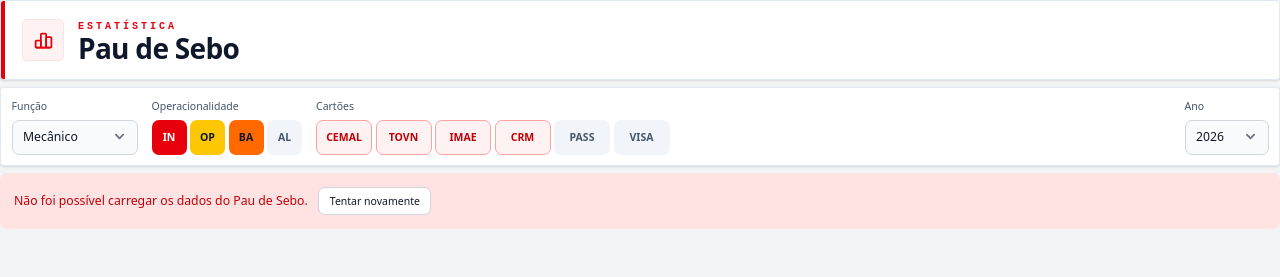
it: Sebo — comportamento da página › mostra erro com nova tentativa em vez de orientar a mudar filtros
Click the button "Tentar novamente" at [375, 201], box [318,187,431,215]
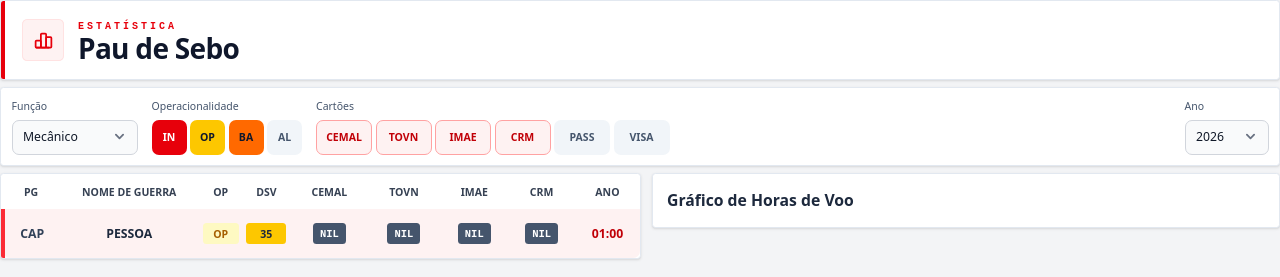
Check: the text "Pessoa" is shown, box [59,209,199,258]
